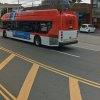Bus: (1, 6, 81, 49)
